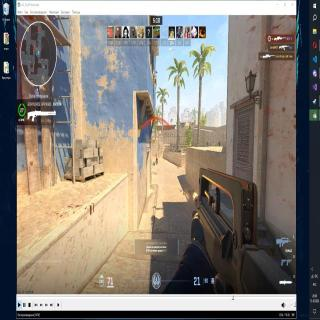T-Body: (154, 152, 160, 166)
T-Head: (156, 150, 158, 158)
